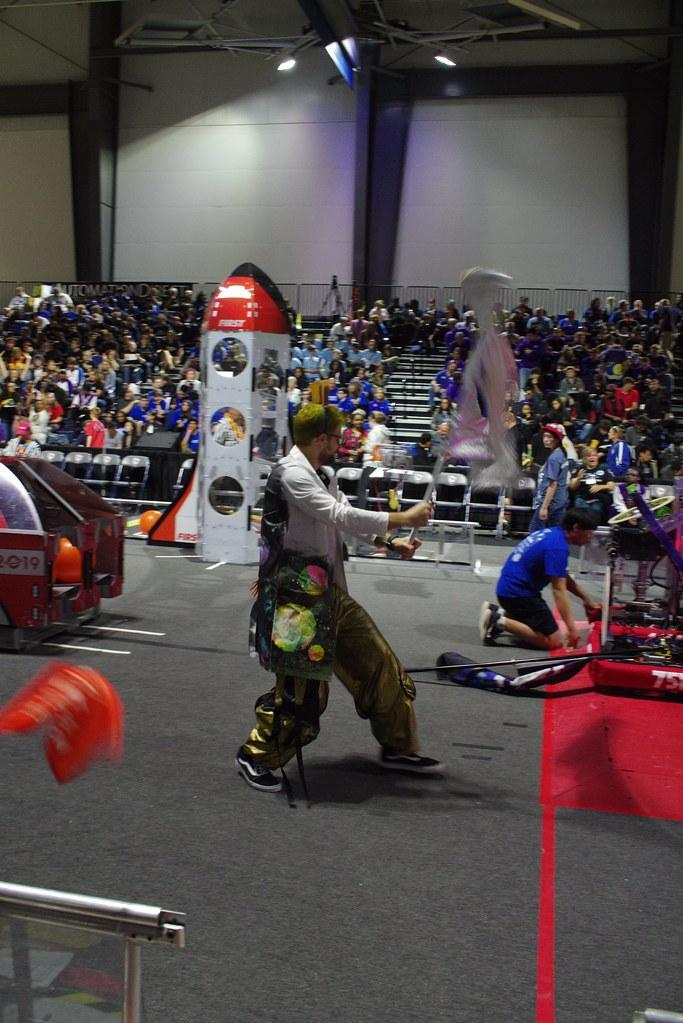robot: (586, 476, 683, 704)
